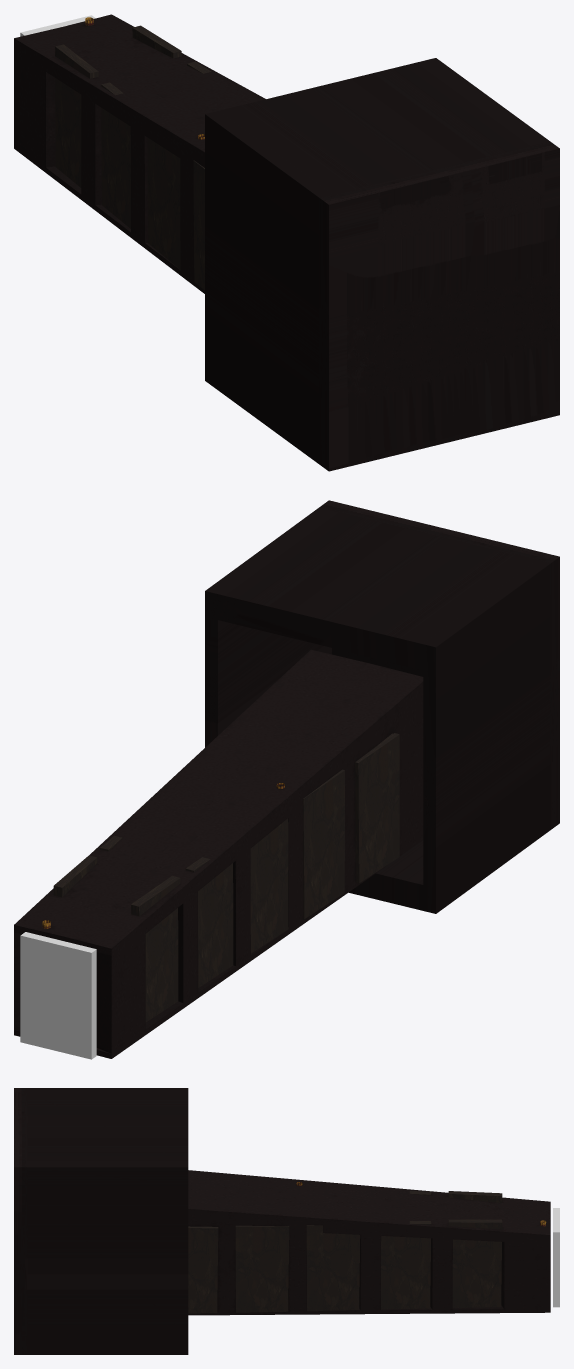
The model's file is Corridor (3).fbx.
3 views of the same model, one above another, from view 1: azimuth 30°, elevation 25°; view 2: azimuth 150°, elevation 25°; view 3: azimuth 270°, elevation 25° (orthographic). The views are drawn at different scales.
Visible parts, largest first — view 1: wall, leftdoor, rightdoor; view 2: wall, leftdoor, backLight, rightdoor; view 3: wall, rightdoor, backLight, leftdoor.
Boxes of the visible parts, left/top/right/bottom form: wall: left=14, top=14, right=559, bottom=471; leftdoor: left=55, top=44, right=204, bottom=290; rightdoor: left=132, top=25, right=211, bottom=73; wall: left=14, top=500, right=559, bottom=1058; leftdoor: left=131, top=733, right=399, bottom=1022; backLight: left=20, top=932, right=96, bottom=1059; rightdoor: left=53, top=835, right=122, bottom=897; wall: left=14, top=1088, right=550, bottom=1354; rightdoor: left=188, top=1219, right=502, bottom=1313; backLight: left=553, top=1208, right=559, bottom=1307; leftdoor: left=409, top=1191, right=502, bottom=1202.
Size of the model in its own units: 1135 by 1252 by 3306.
